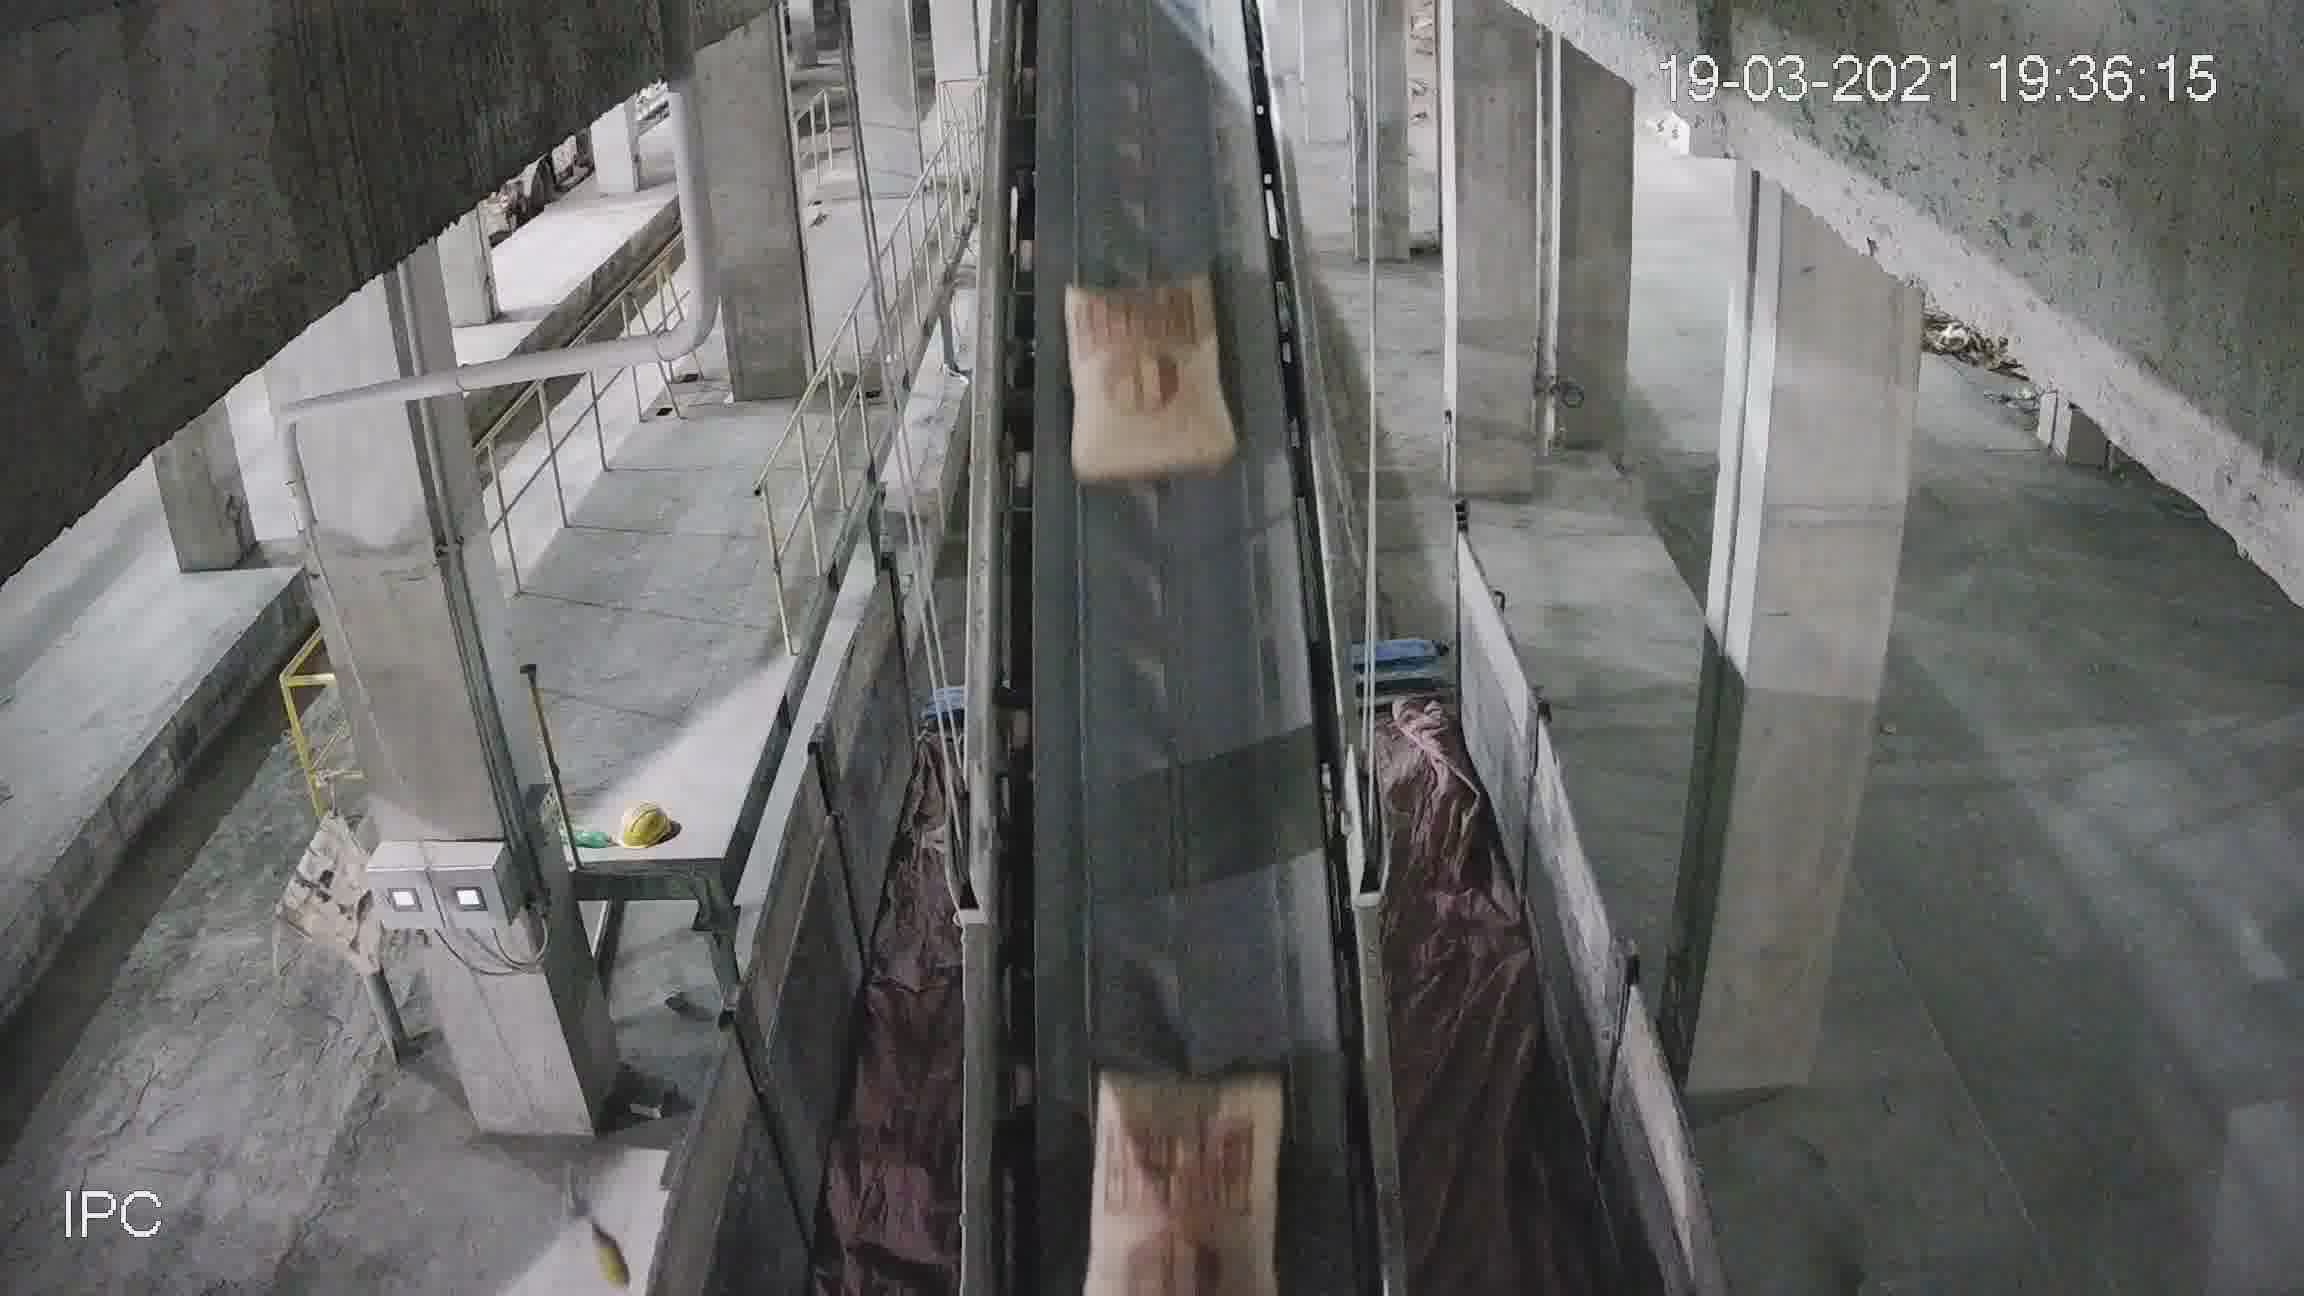bag: (1082, 1071, 1279, 1283), (1067, 271, 1226, 479)
belt: (962, 49, 1381, 1239)
